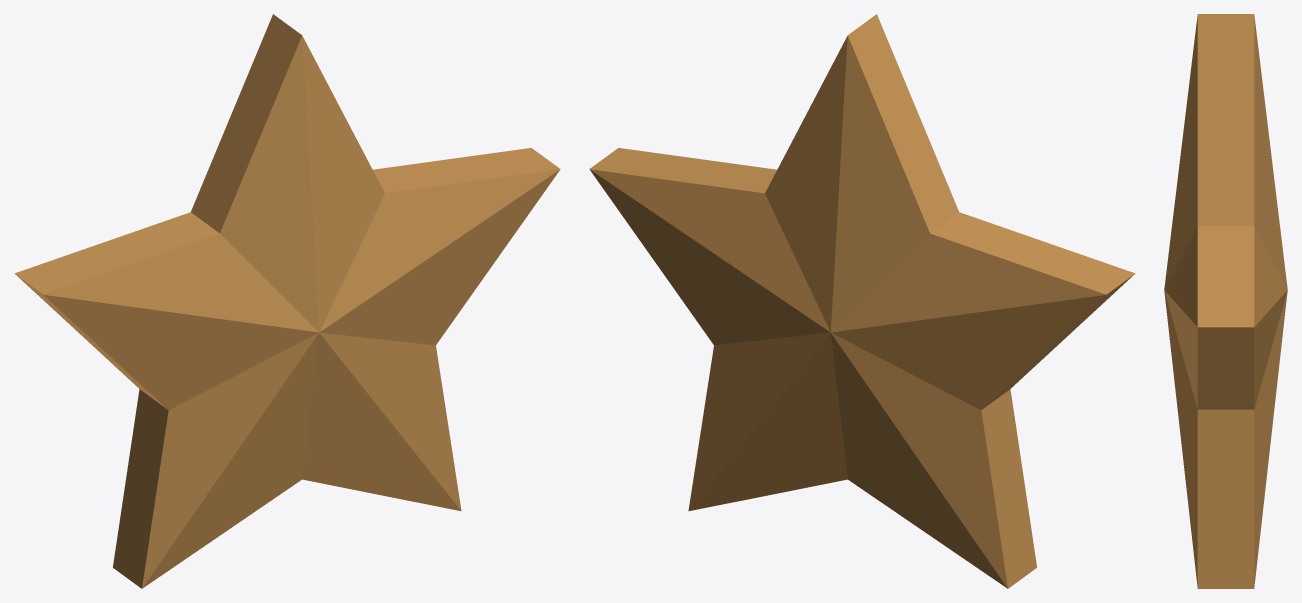
File: SM_Icon_Star_01.fbx
3 renders of one model, left to right at view 1: azimuth 30°, elevation 25°; view 2: azimuth 150°, elevation 25°; view 3: azimuth 270°, elevation 25°, orthographic. The views are drawn at different scales.
Parts seen in each view (by area): view 1: SM_Icon_Star_01; view 2: SM_Icon_Star_01; view 3: SM_Icon_Star_01.
Boxes of the visible parts, x1,y1,x2,y2 form: SM_Icon_Star_01: [14, 14, 560, 588]; SM_Icon_Star_01: [589, 14, 1135, 588]; SM_Icon_Star_01: [1164, 14, 1287, 588].
Bounding box in the file's own units: 51.23 × 48.74 × 10.92.
